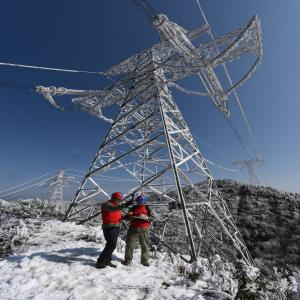blue: (136, 196, 148, 207)
red: (109, 193, 125, 204)
